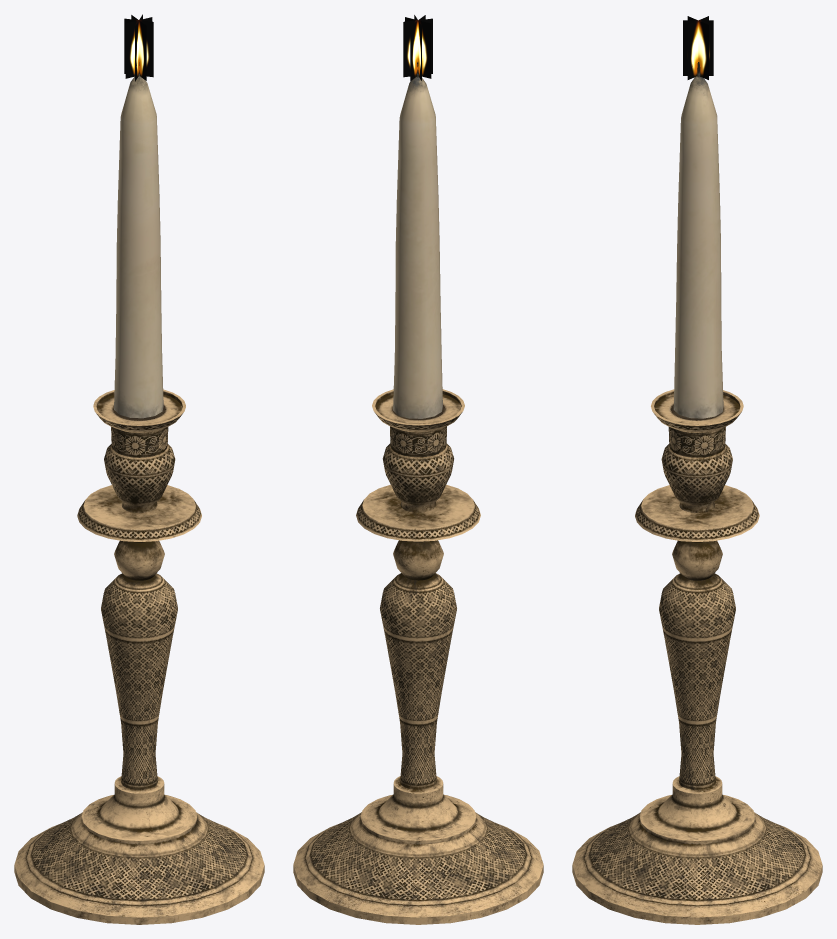
File: candle_01.gltf
3 renders of one model, left to right at view 1: azimuth 30°, elevation 25°; view 2: azimuth 150°, elevation 25°; view 3: azimuth 270°, elevation 25°, orthographic.
Parts seen in each view (by area): view 1: brass_candleholder_01; view 2: brass_candleholder_01; view 3: brass_candleholder_01.
Boxes of the visible parts, x1,y1,x2,y2 form: brass_candleholder_01: (14,14,264,924); brass_candleholder_01: (293,15,543,924); brass_candleholder_01: (572,16,822,924).
Bounding box in the file's own units: 0.0974 × 0.3655 × 0.0974.
2 materials, 2 textured.
